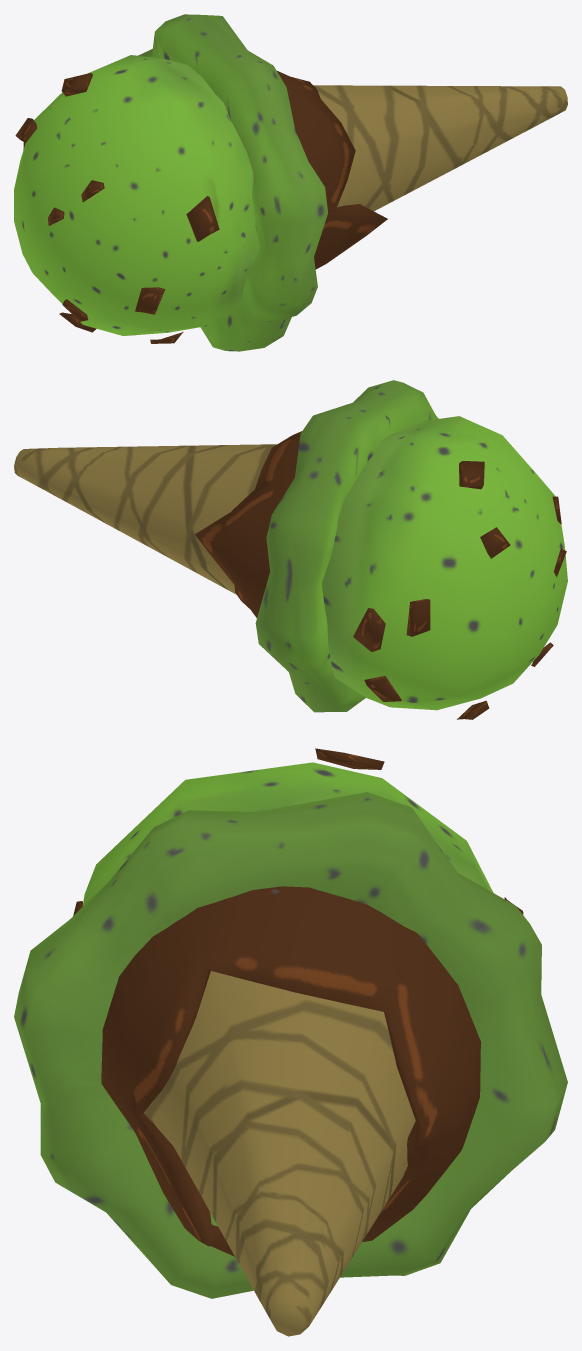
File: ice_cream_paddle.glb
3 views of the same model, one above another, from view 1: azimuth 30°, elevation 25°; view 2: azimuth 150°, elevation 25°; view 3: azimuth 270°, elevation 25° (orthographic). The views are drawn at different scales.
Visible parts, largest first — view 1: Pistache; view 2: Pistache; view 3: Pistache.
Boxes of the visible parts, left/top/right/bottom form: Pistache: left=14, top=14, right=567, bottom=351; Pistache: left=14, top=380, right=567, bottom=719; Pistache: left=14, top=748, right=567, bottom=1336.
Bounding box in the file's own units: 4.06 × 2.2 × 2.28.
Materials: 1 (1 with a texture image).
